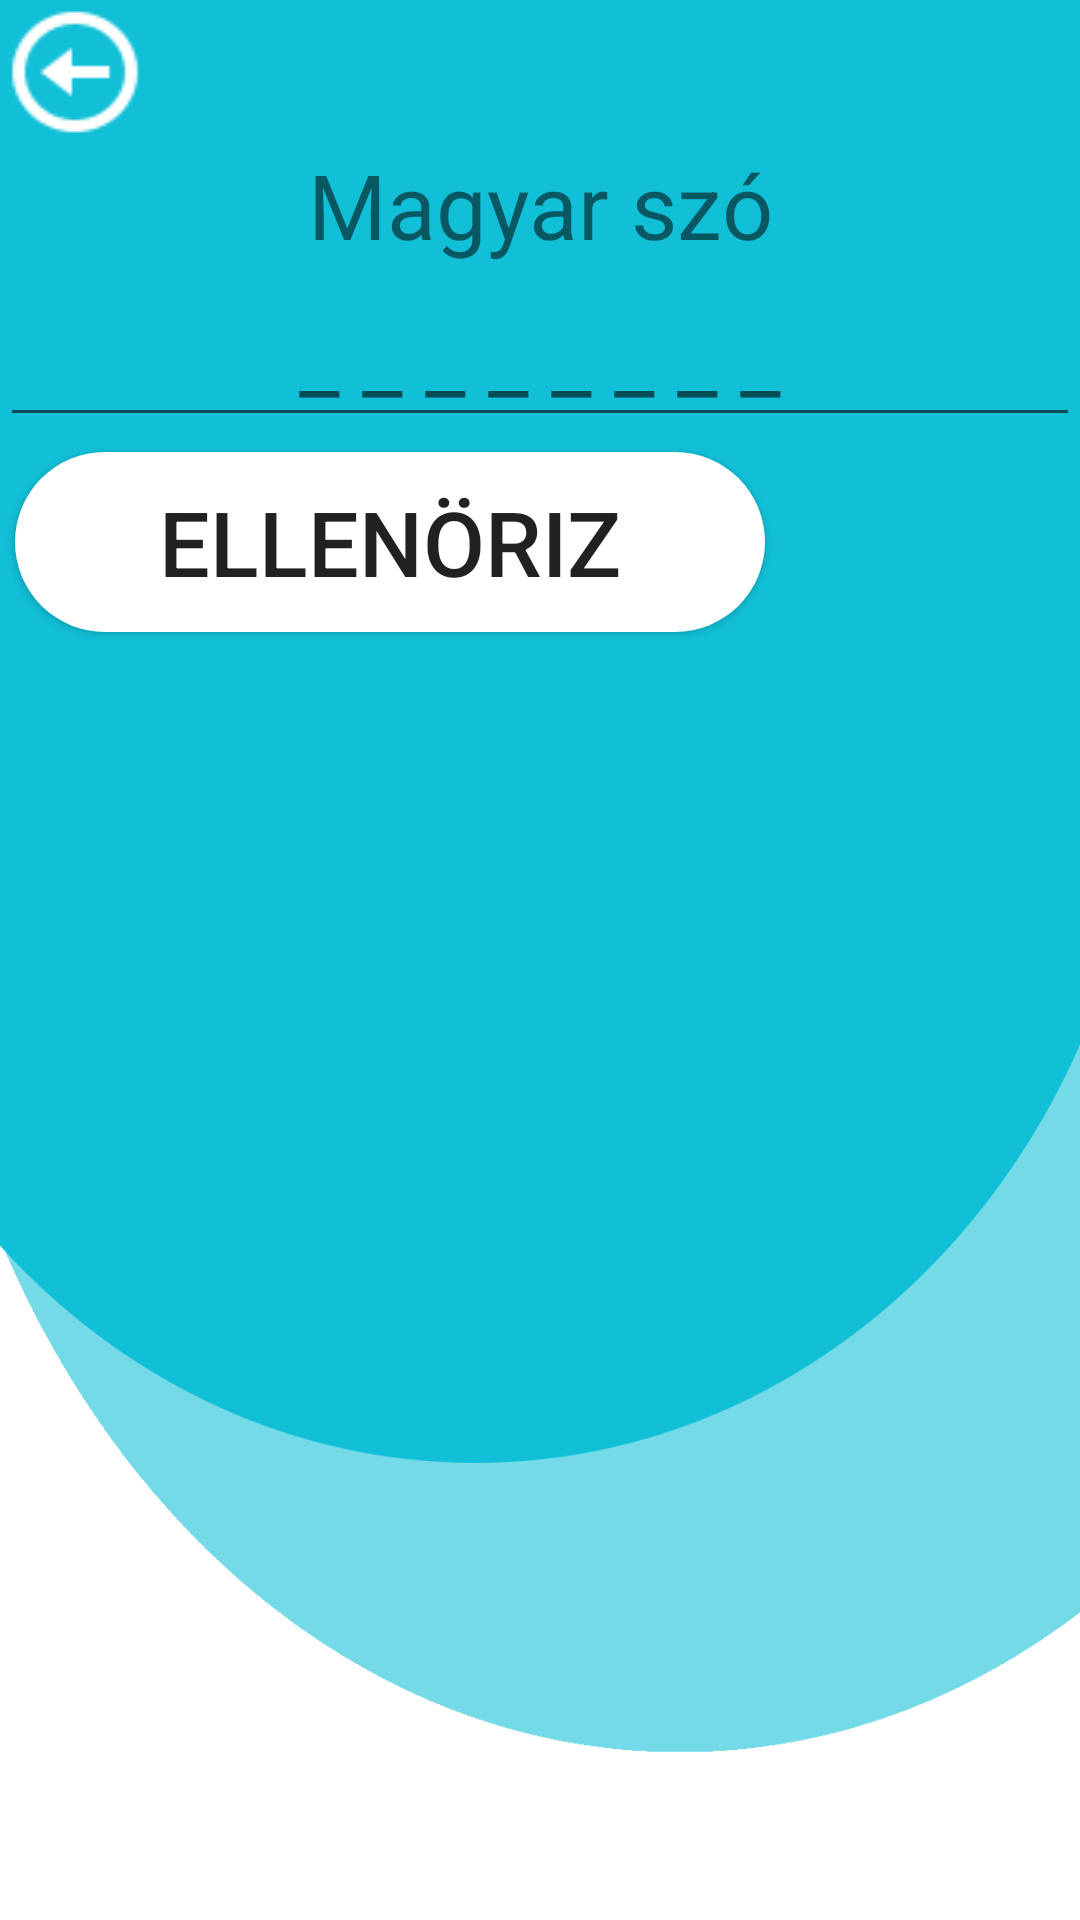

Where icons sit on this 1080*1920 app screen, as (x1, y1, x2, y2):
back: (11, 11, 139, 133)
